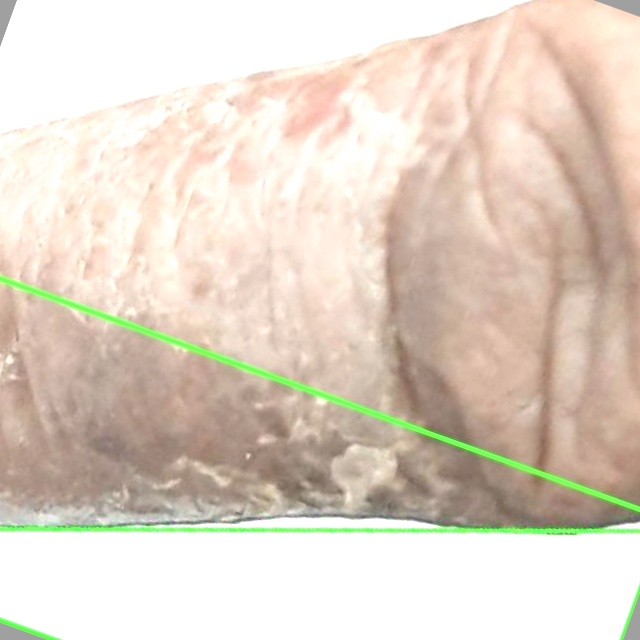Eczema: (0, 49, 639, 553), (0, 280, 639, 639)
